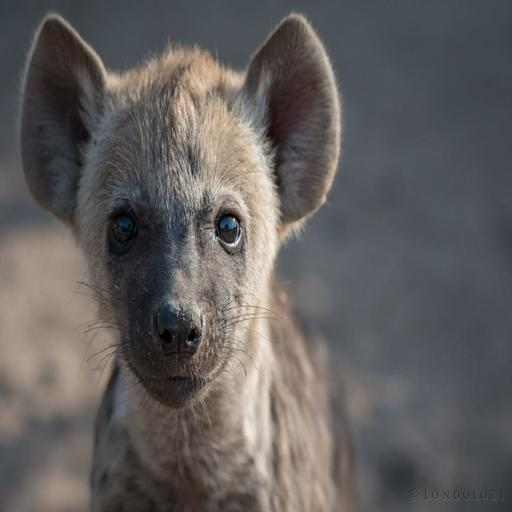Hyena: (14, 8, 360, 509)
